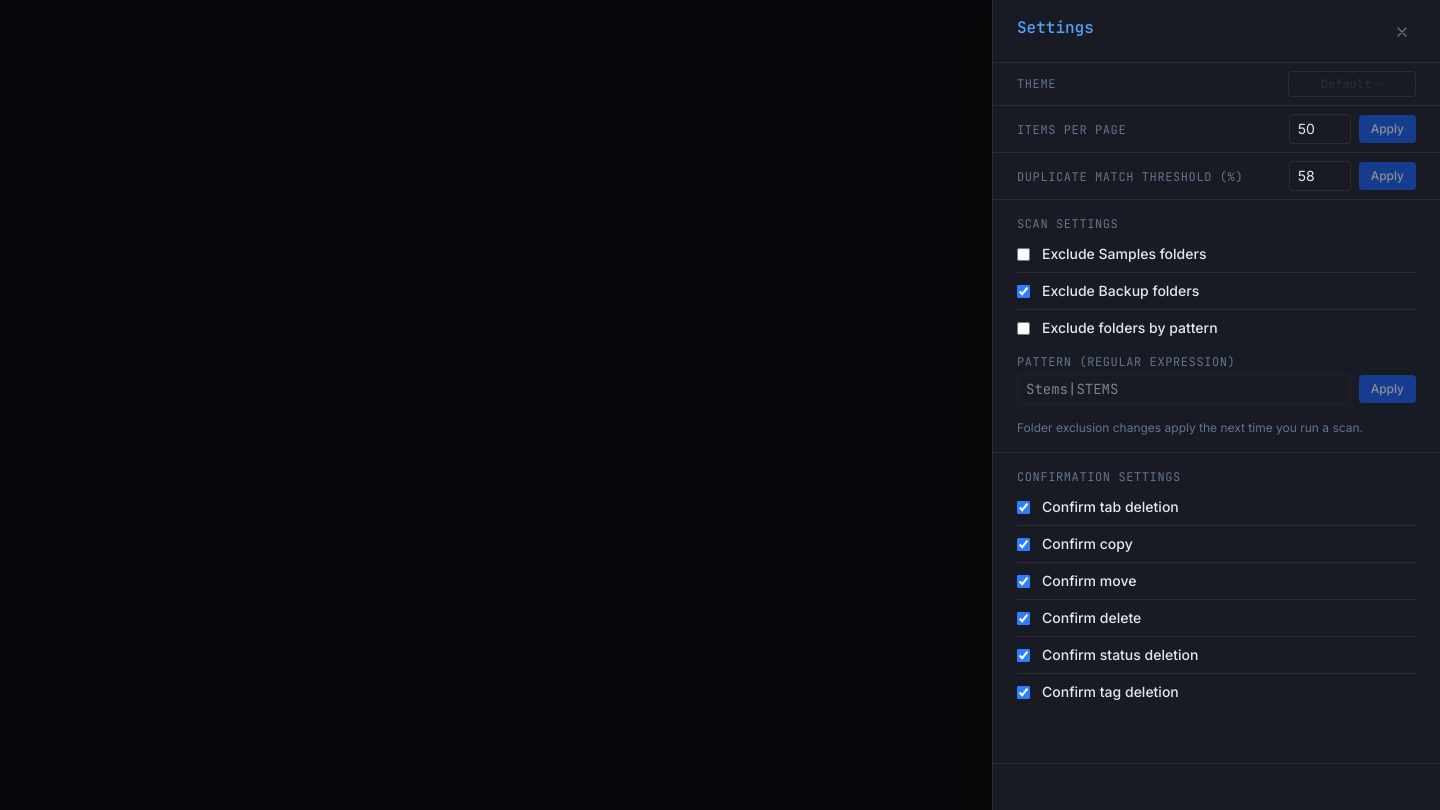
Test: SettingsPanel - handleChange optimistic merge › only merges the changed key into local state, leaving the other setting's value untouched, while the save is still in flight
The width and height of the screenshot is (1440, 810).
Expected: the checkbox labelled "Exclude Backup folders" is checked, [1017, 284, 1030, 298]
Click the checkbox labelled "Exclude Samples folders" at (1024, 254), box [1017, 248, 1030, 260]
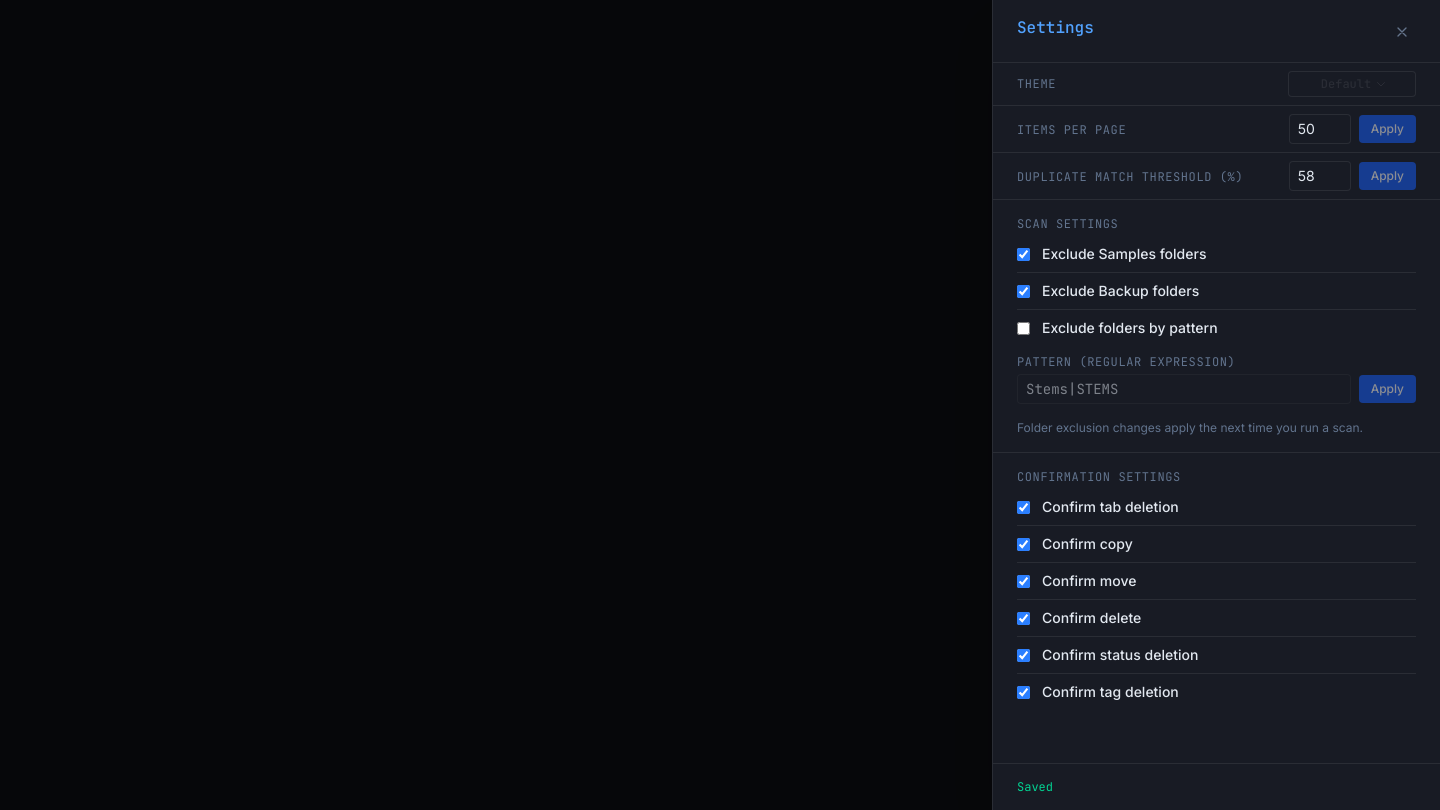
Expected: the checkbox labelled "Exclude Backup folders" is checked, [1017, 284, 1030, 298]
Expected: the checkbox labelled "Exclude Samples folders" is checked, [1017, 248, 1030, 260]
Expected: the text "Saved" is shown, [1017, 779, 1053, 795]
